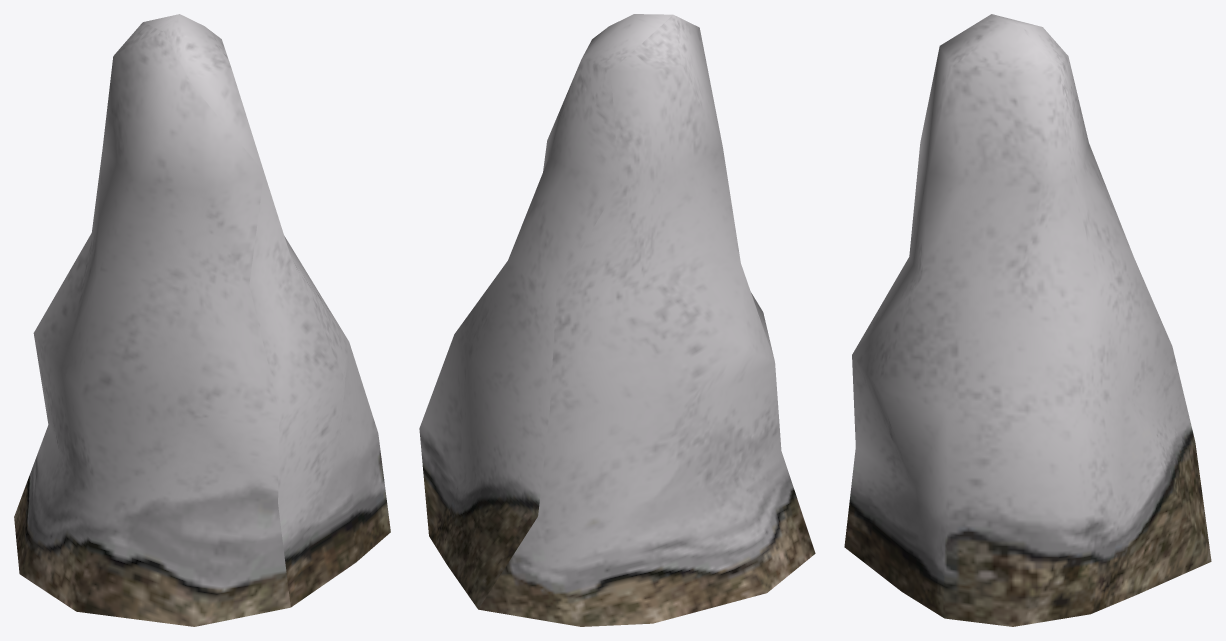
Rendered from general_obj_txtstone.glb.
3 views of the same model, side by side, from view 1: azimuth 30°, elevation 25°; view 2: azimuth 150°, elevation 25°; view 3: azimuth 270°, elevation 25° (orthographic). The views are drawn at different scales.
Parts seen in each view (by area): view 1: Box01; view 2: Box01; view 3: Box01.
Boxes of the visible parts, x1,y1,x2,y2 form: Box01: [14, 14, 390, 626]; Box01: [419, 14, 815, 626]; Box01: [844, 14, 1211, 626].
Bounding box in the file's own units: 1.84 × 2.77 × 1.8.
1 material, 1 textured.
